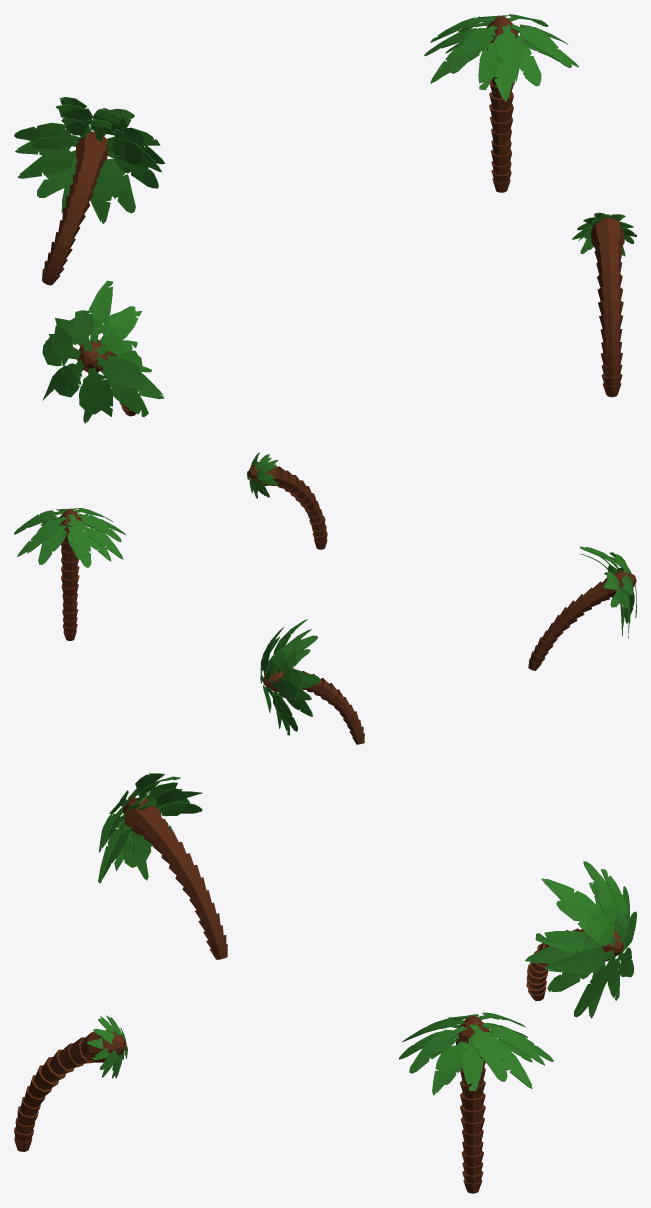
File: palmen gefixt.fbx
3 views of the same model, one above another, from view 1: azimuth 30°, elevation 25°; view 2: azimuth 150°, elevation 25°; view 3: azimuth 270°, elevation 25° (orthographic). The views are drawn at different scales.
Visible parts, largest first — view 1: Cylinder.037; view 2: Cylinder.037; view 3: Cylinder.037.
Part boxes in pixels (x1=…): Cylinder.037: x1=14, y1=14, x2=636, y2=423; Cylinder.037: x1=14, y1=452, x2=636, y2=744; Cylinder.037: x1=14, y1=773, x2=636, y2=1193.
Size of the model in its own units: 3110 by 833 by 2489.
